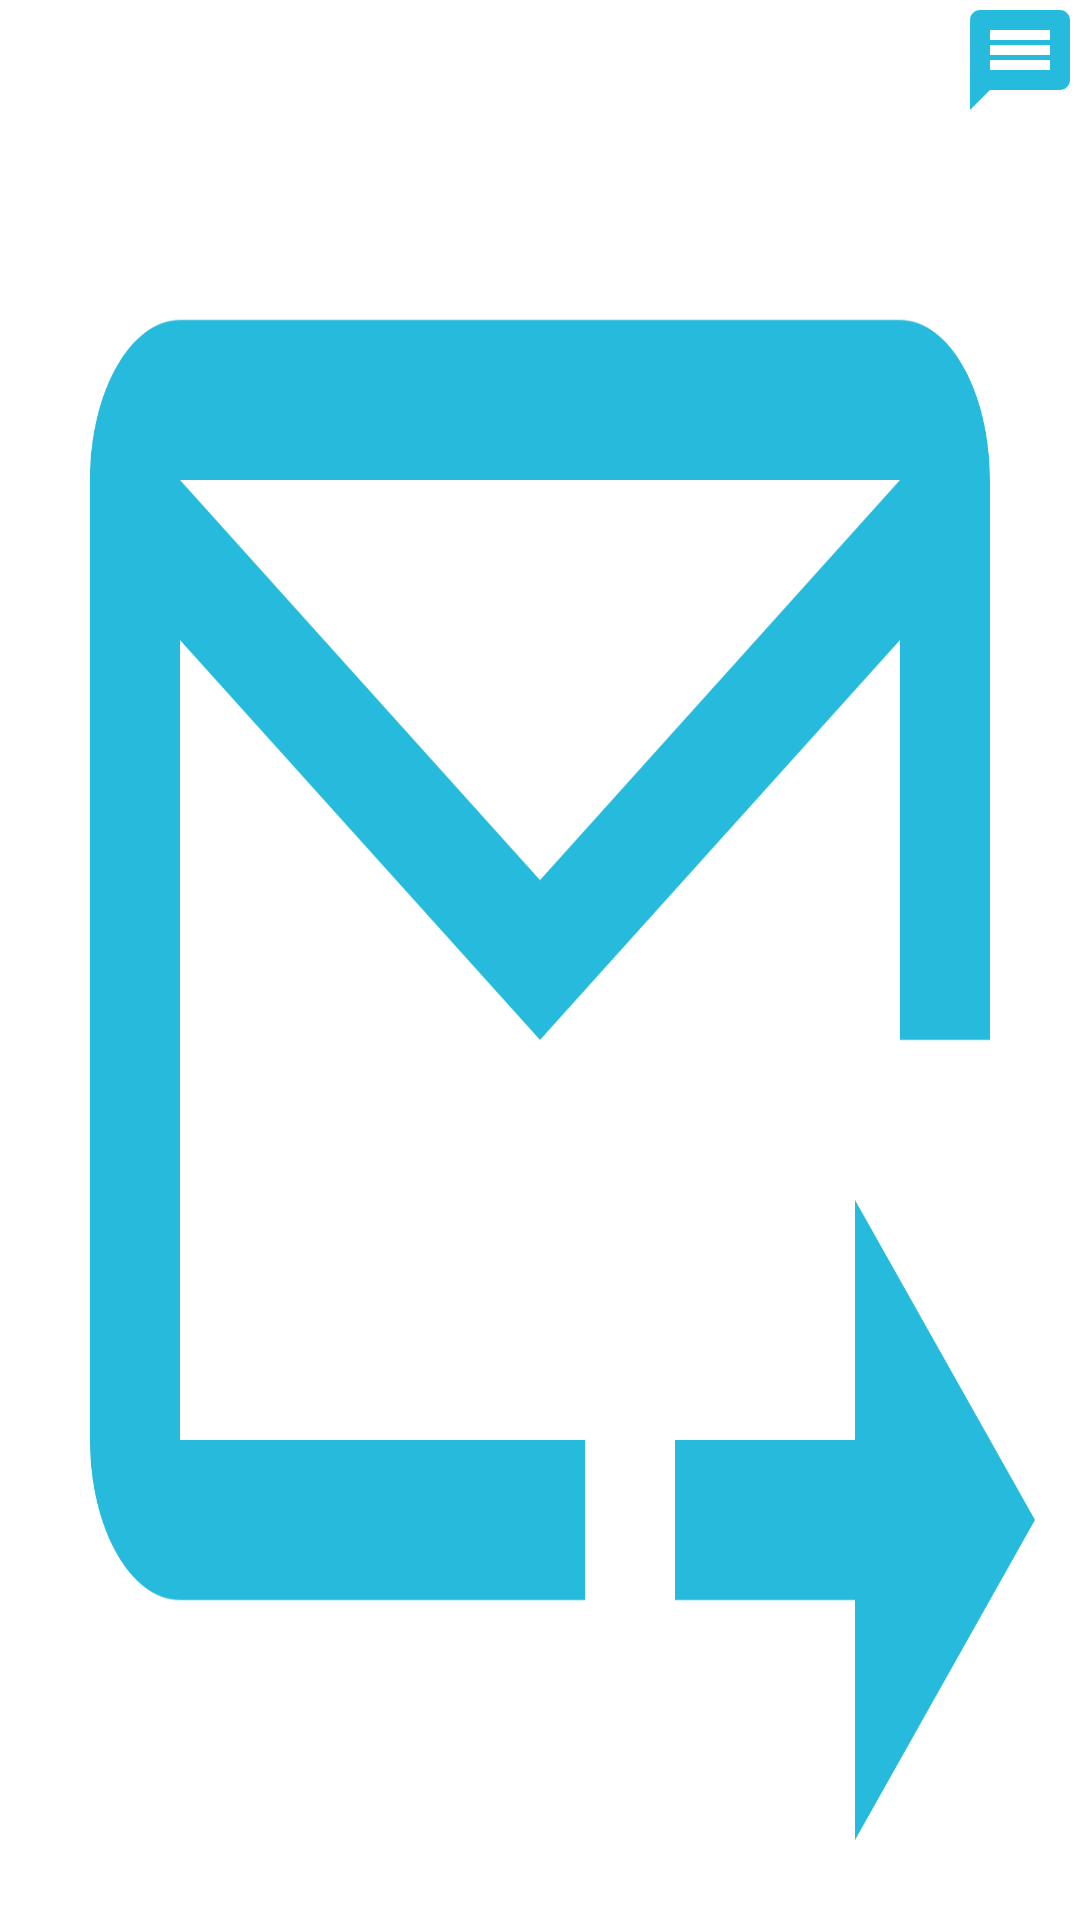

Icon bounding boxes for this 1080 × 1920 phone screenshot, format bbox(x1, y1, x2, y2):
message: bbox(970, 10, 1070, 110)
